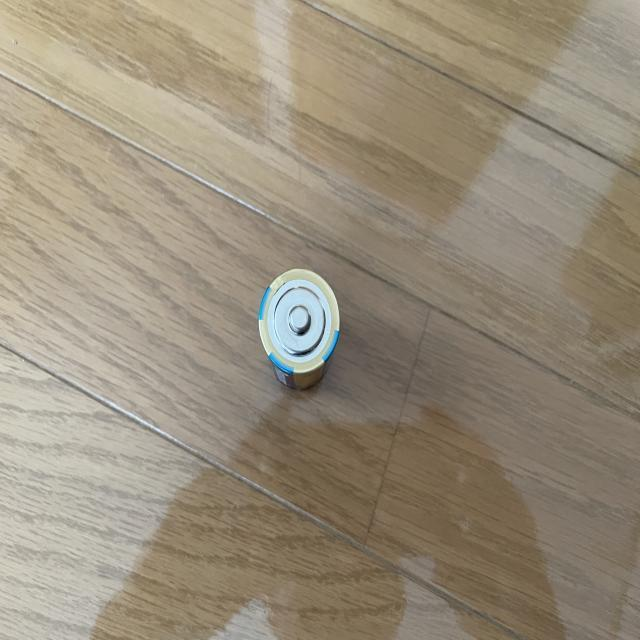battery: (252, 263, 343, 393)
